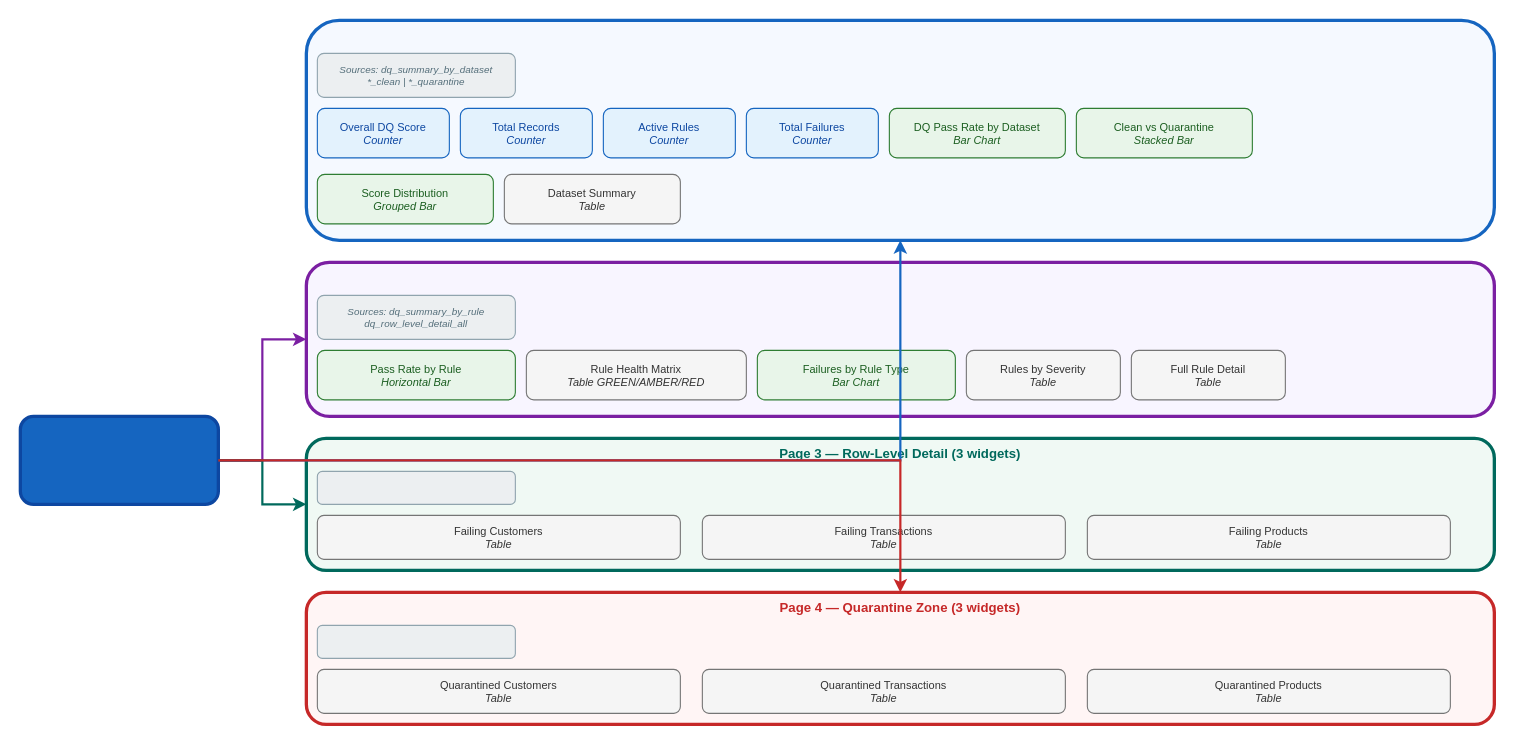
This 1515x745 diagram has some shape labels left out. The box of each missing label's shape, as (x1, y1, x2, y2) in pixels:
Data Quality Command Center SDP Framework: (18, 414, 219, 505)
Page 1 — Executive Overview (8 widgets): (304, 18, 1495, 241)
Page 2 — Rule Analysis (5 widgets): (304, 260, 1495, 417)
Sources: *_quarantine views: (316, 624, 515, 658)
Sources: *_validated tables: (316, 470, 515, 504)
